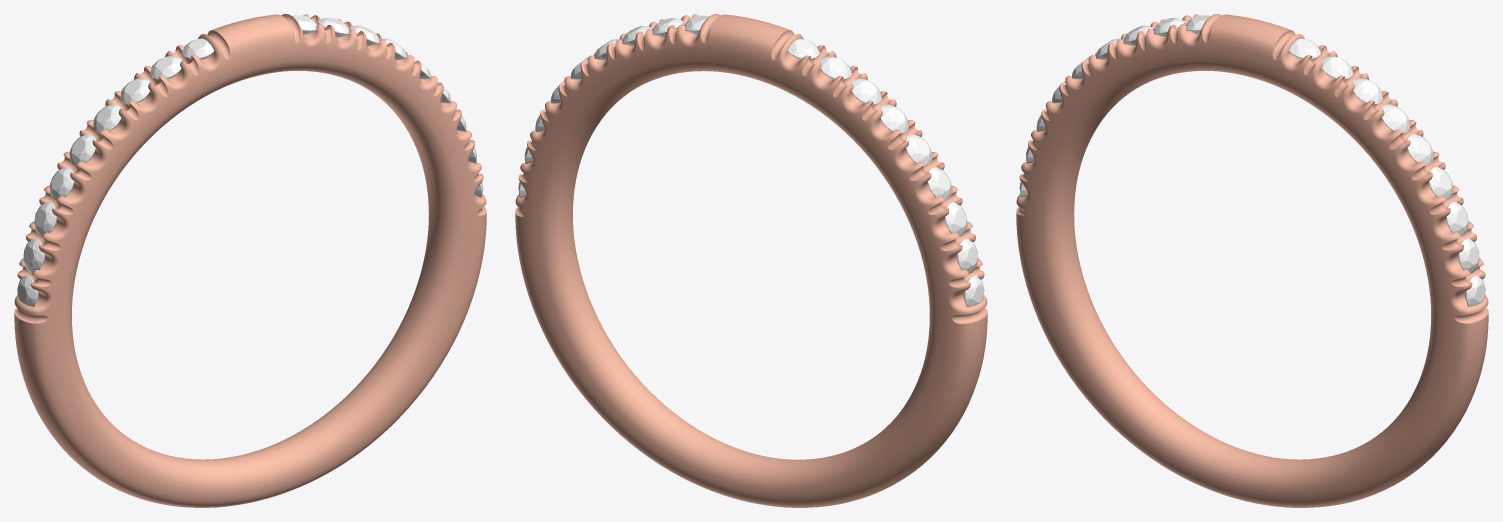
File: shank2.glb
The picture shows the model from 3 angles, left to right: view 1: azimuth 30°, elevation 25°; view 2: azimuth 150°, elevation 25°; view 3: azimuth 330°, elevation 25°; orthographic projection.
Visible parts, largest first — view 1: /Ring-2.3dm, Diamond_Round (×7); view 2: /Ring-2.3dm, Diamond_Round (×7); view 3: /Ring-2.3dm, Diamond_Round (×7).
Part boxes in pixels (x1,y1,x2,y2): /Ring-2.3dm: (14,14,486,507); Diamond_Round (×7): (23,56,182,273); /Ring-2.3dm: (515,14,987,507); Diamond_Round (×7): (819,56,977,273); /Ring-2.3dm: (1016,14,1488,507); Diamond_Round (×7): (1320,56,1479,273).
Bounding box in the file's own units: 2.85 × 2.8 × 0.2679.
